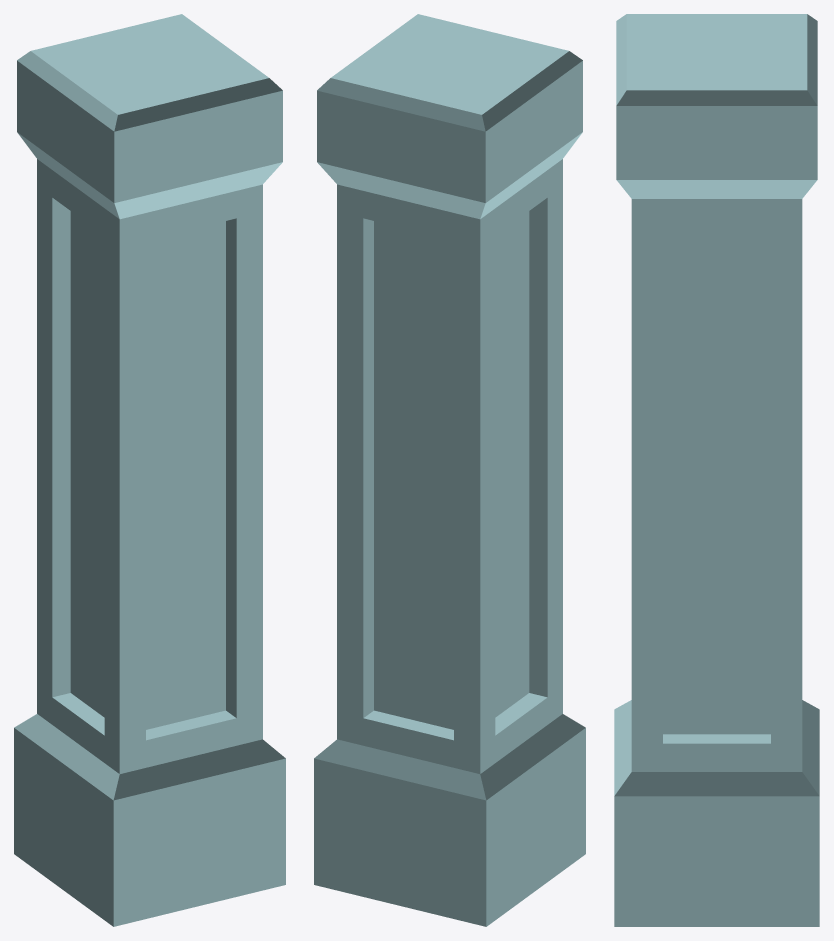
File: stone_column.obj
The picture shows the model from 3 angles, left to right: view 1: azimuth 30°, elevation 25°; view 2: azimuth 150°, elevation 25°; view 3: azimuth 270°, elevation 25°; orthographic projection. The views are drawn at different scales.
Parts seen in each view (by area): view 1: stone_column; view 2: stone_column; view 3: stone_column.
Part boxes in pixels (x1=…): stone_column: x1=14, y1=14, x2=285, y2=926; stone_column: x1=314, y1=14, x2=585, y2=926; stone_column: x1=614, y1=14, x2=819, y2=926.
Bounding box in the file's own units: 2.24 × 10 × 2.24.
